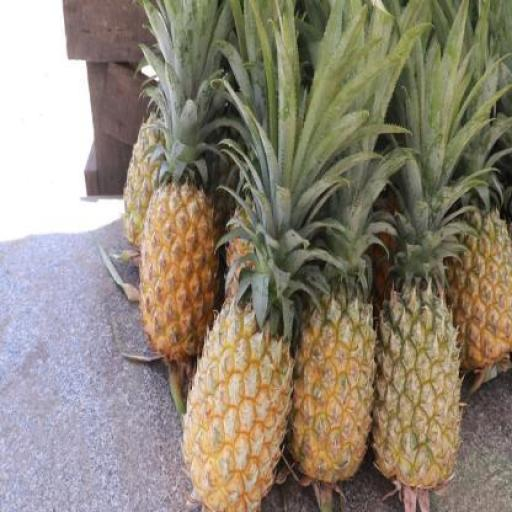------------------------------: (373, 292, 463, 498)
Pineapple - v8 v1: (186, 303, 292, 511), (289, 296, 376, 490), (140, 184, 216, 371), (449, 218, 511, 374)
